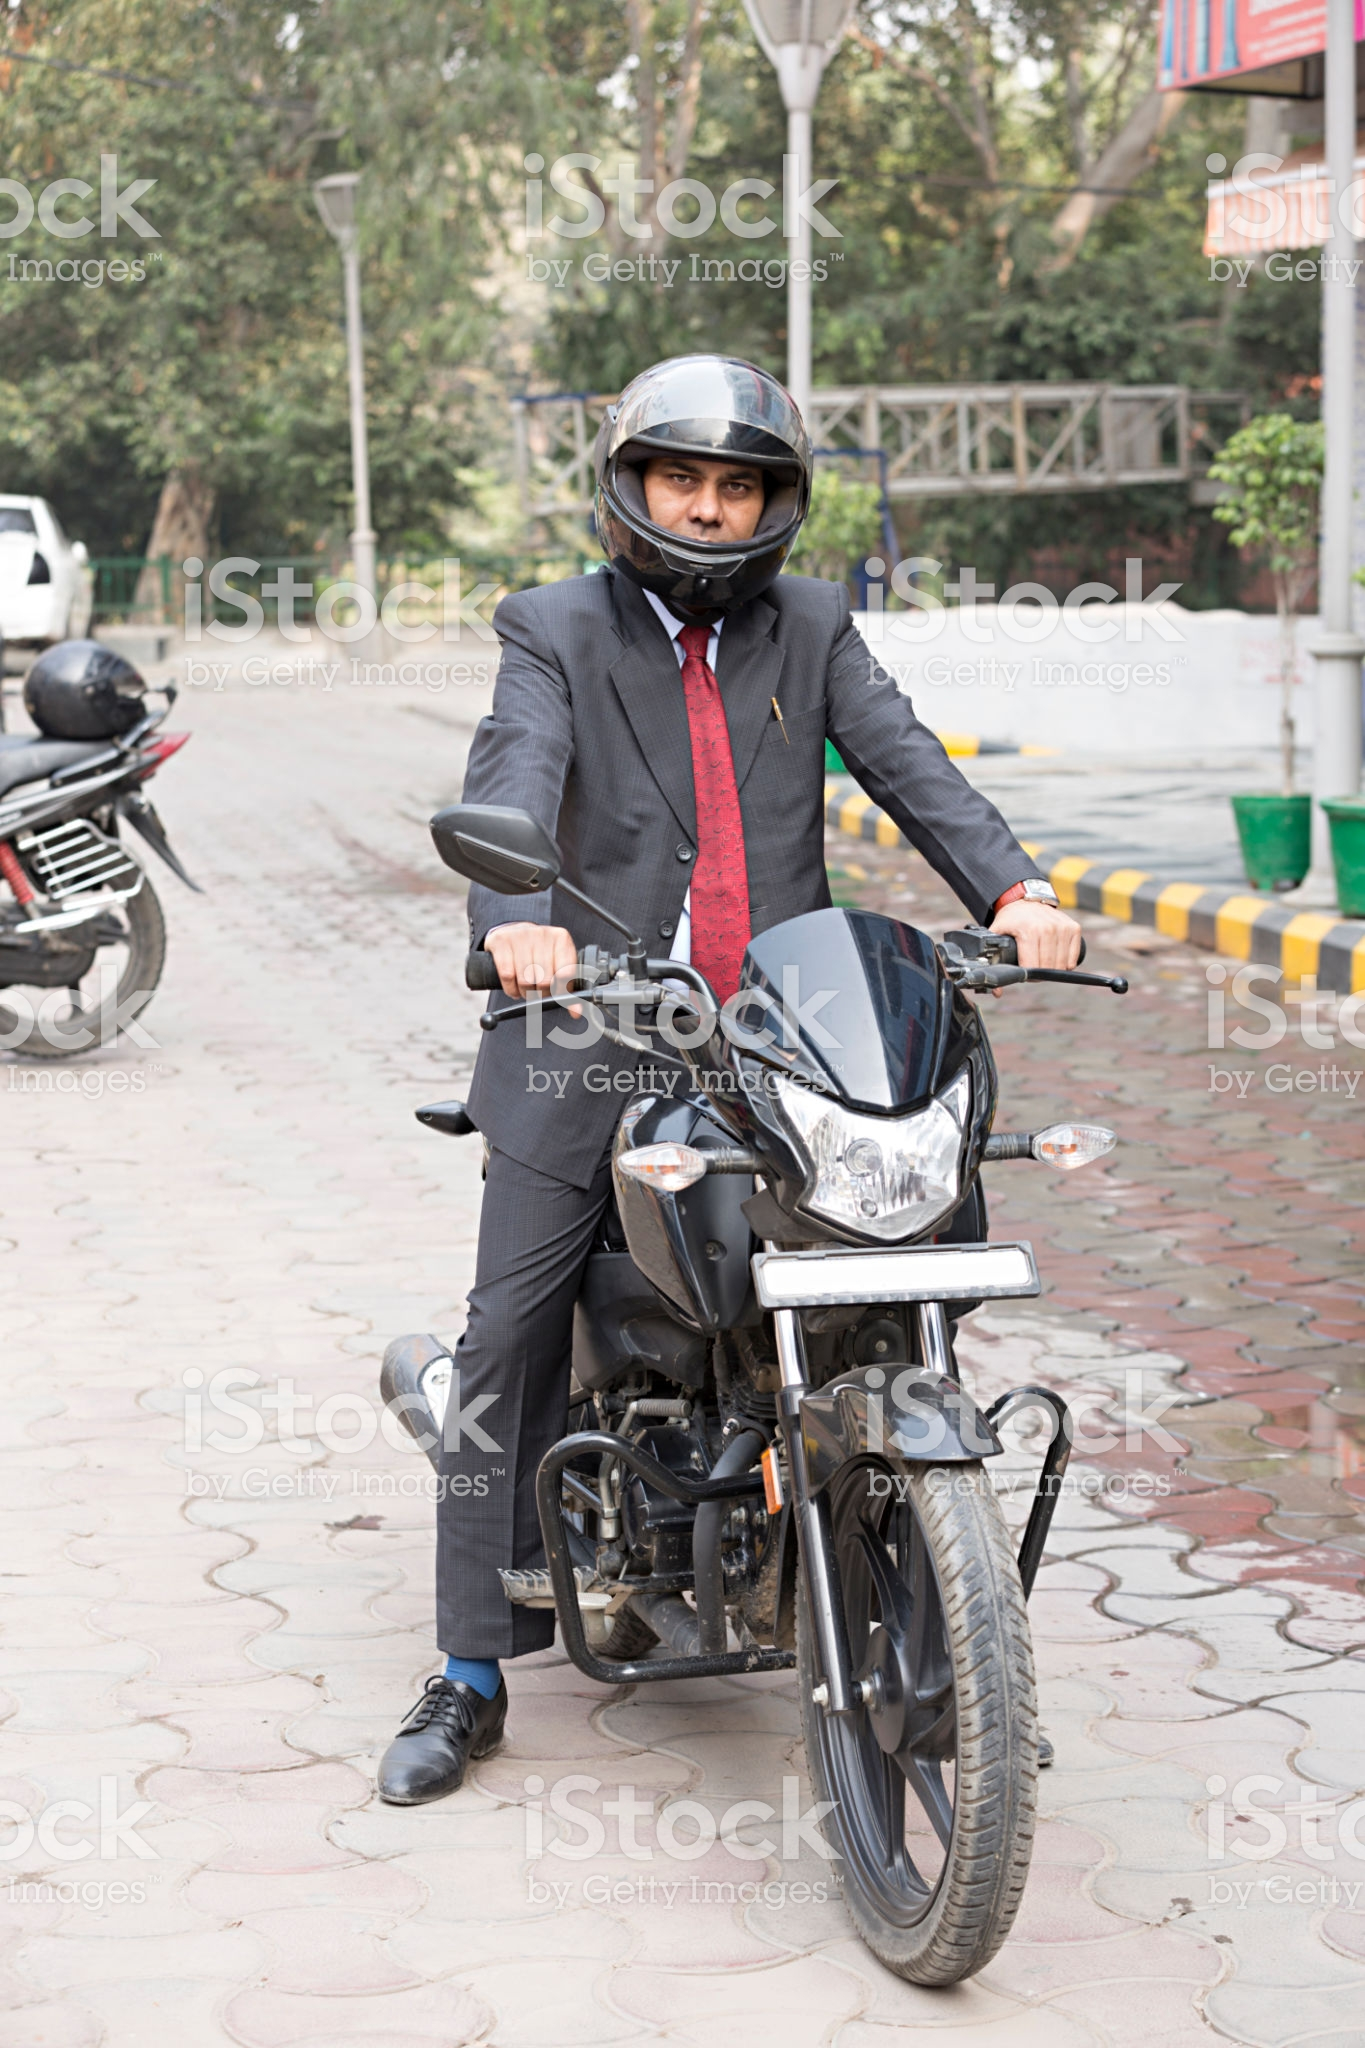helmet: (570, 338, 832, 627)
